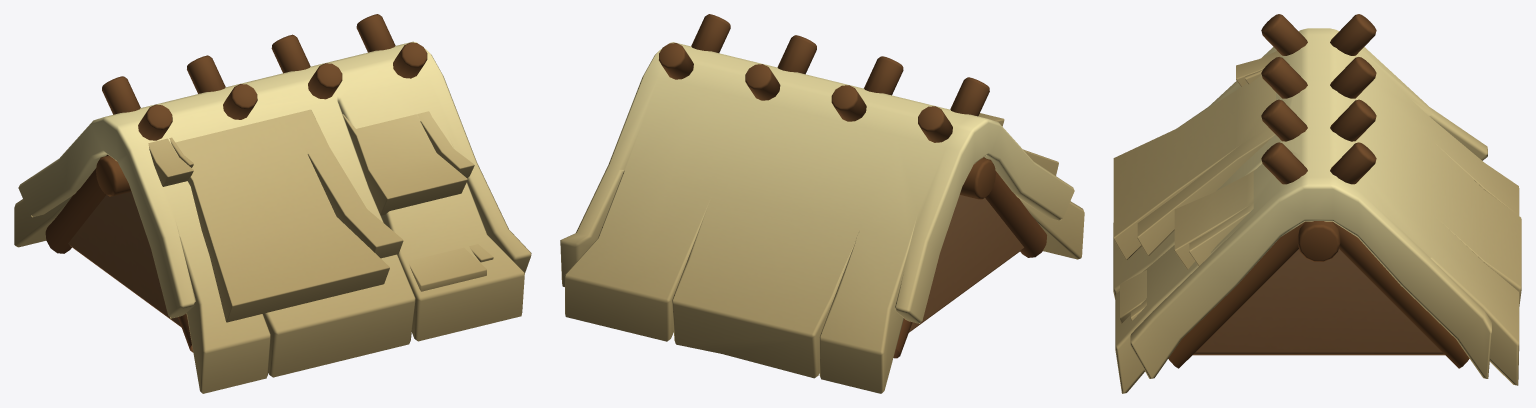
The model's file is SM_Clay_Roof_01.fbx.
The picture shows the model from 3 angles, left to right: view 1: azimuth 30°, elevation 25°; view 2: azimuth 150°, elevation 25°; view 3: azimuth 270°, elevation 25°; orthographic projection. The views are drawn at different scales.
Visible parts, largest first — view 1: SM_Clay_Roof_01; view 2: SM_Clay_Roof_01; view 3: SM_Clay_Roof_01.
Part boxes in pixels (x1,y1,x2,y2): SM_Clay_Roof_01: (14,14,531,393); SM_Clay_Roof_01: (560,14,1084,393); SM_Clay_Roof_01: (1113,14,1521,393).
Size of the model in its own units: 1.01 by 0.6403 by 1.01.
